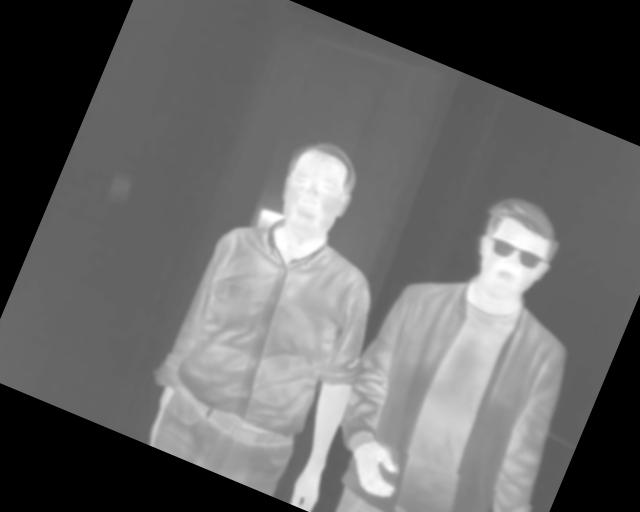face: (458, 186, 572, 314), (263, 129, 371, 253)
